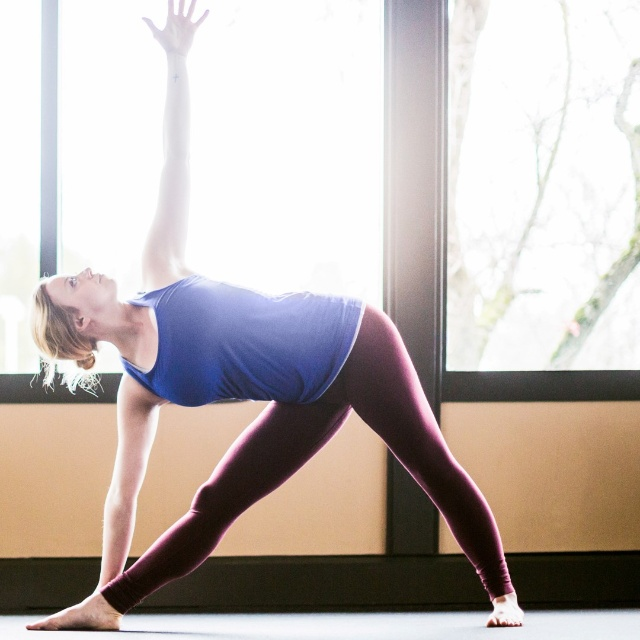Triangle_Pose: (11, 1, 534, 636)
